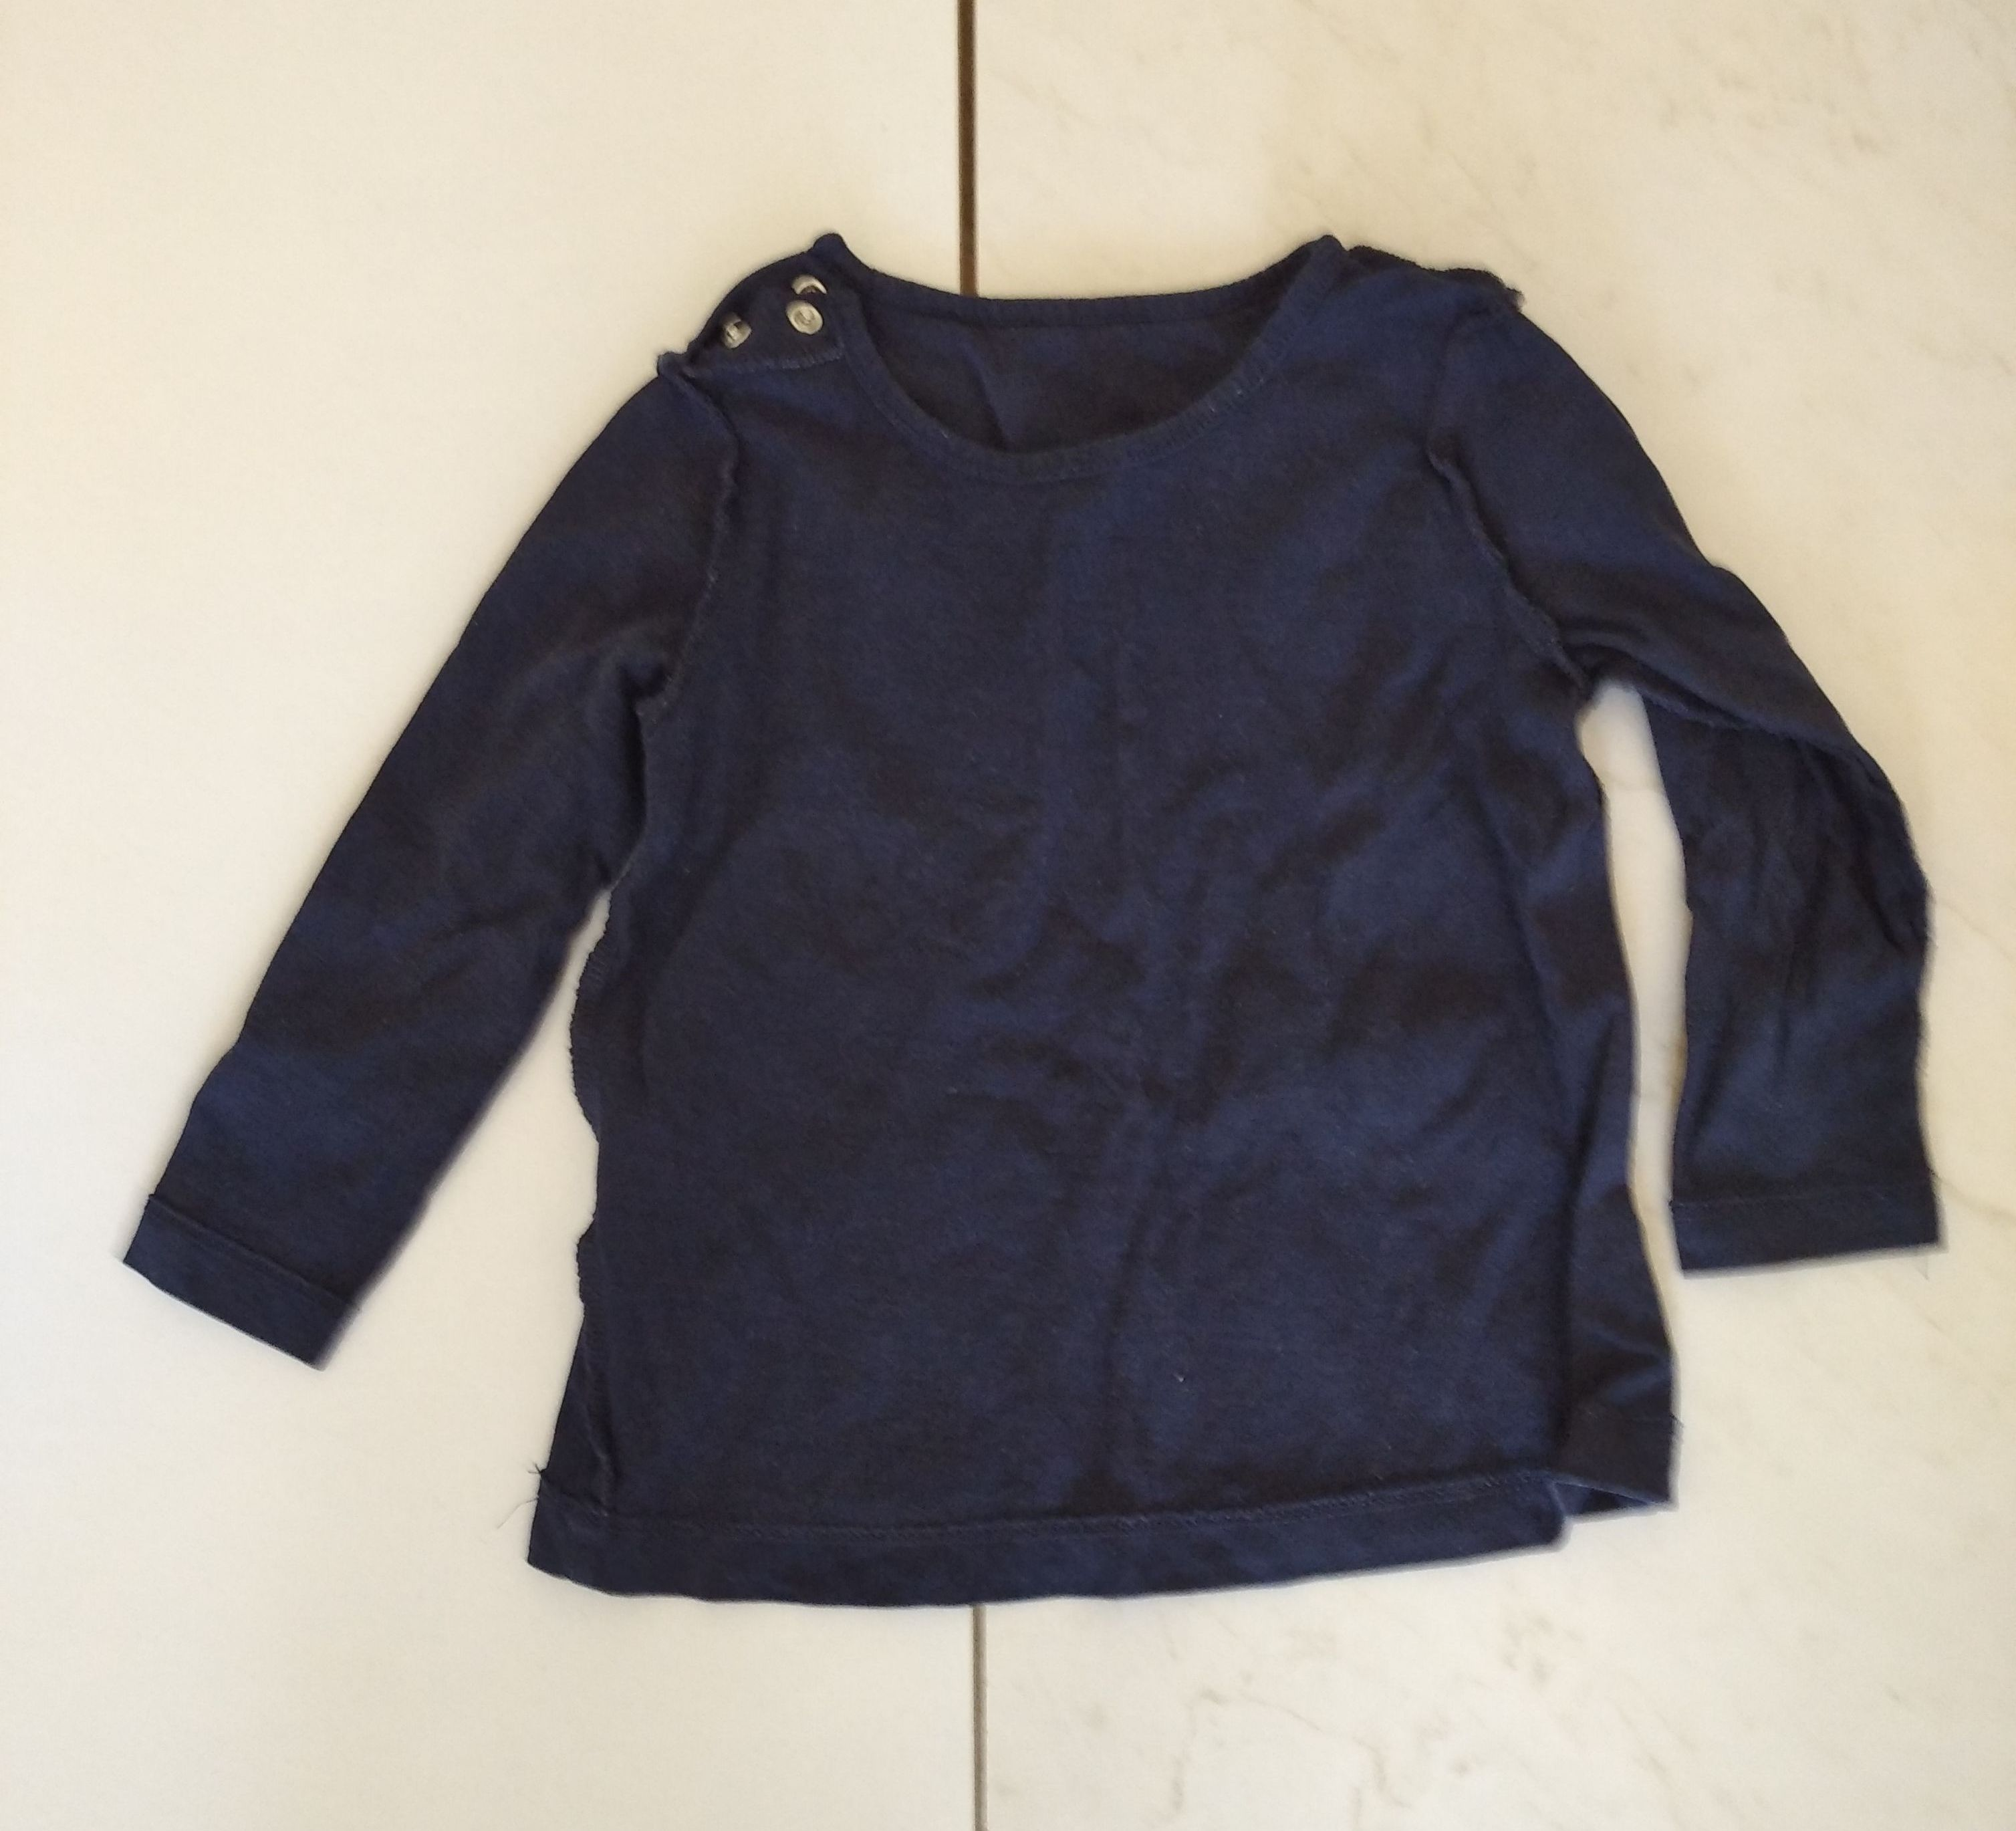clothes: (100, 225, 1949, 1631)
